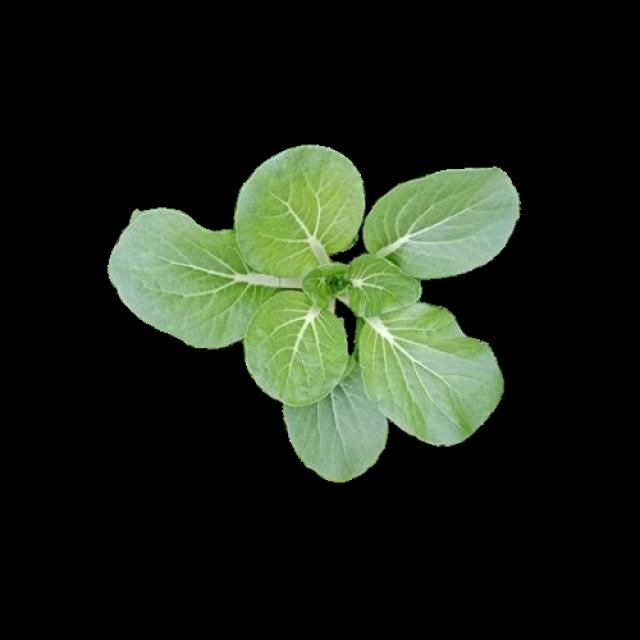healthy: (114, 161, 512, 485)
not-mature: (117, 152, 514, 476)
